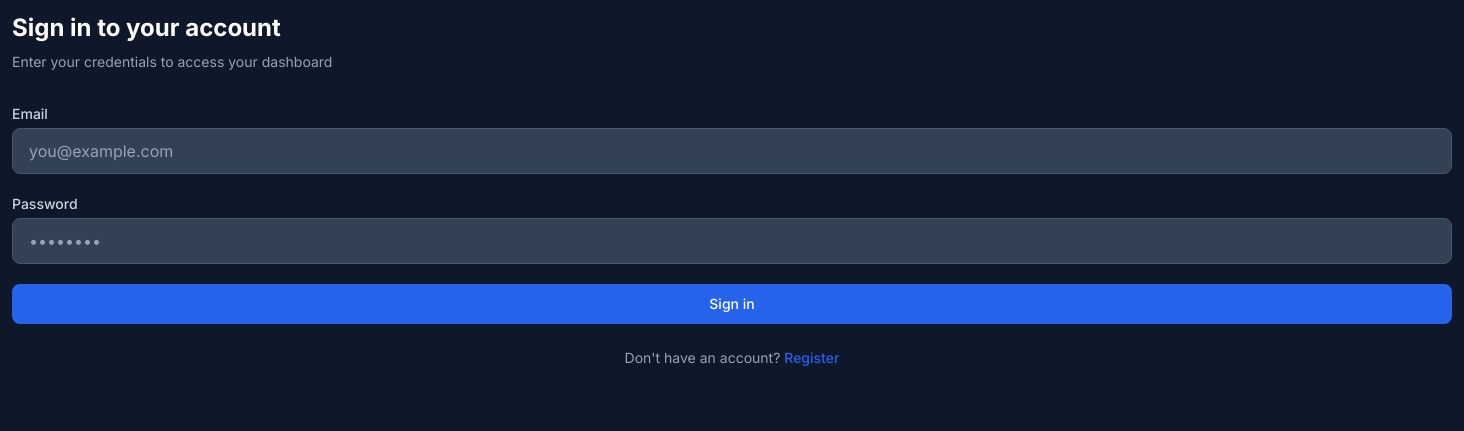
LoginPage › shows validation errors for empty fields
Click the button "Sign in" at (732, 304), box [12,284,1452,324]
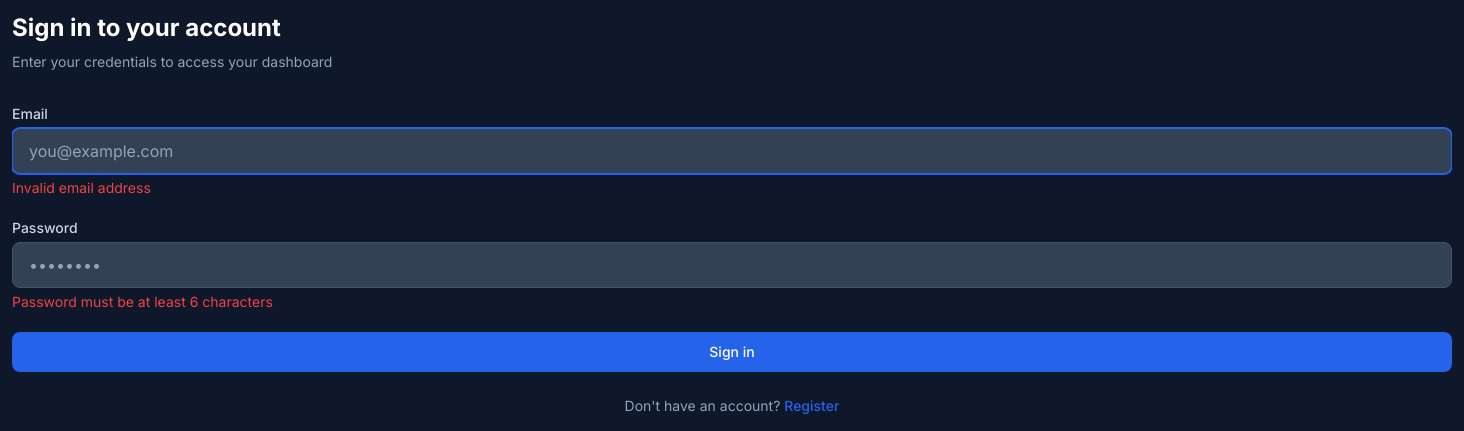
expect the text "Invalid email address" is shown: met, box [12,179,151,196]
expect the text "Password must be at least 6 characters" is shown: met, box [12,293,273,310]
